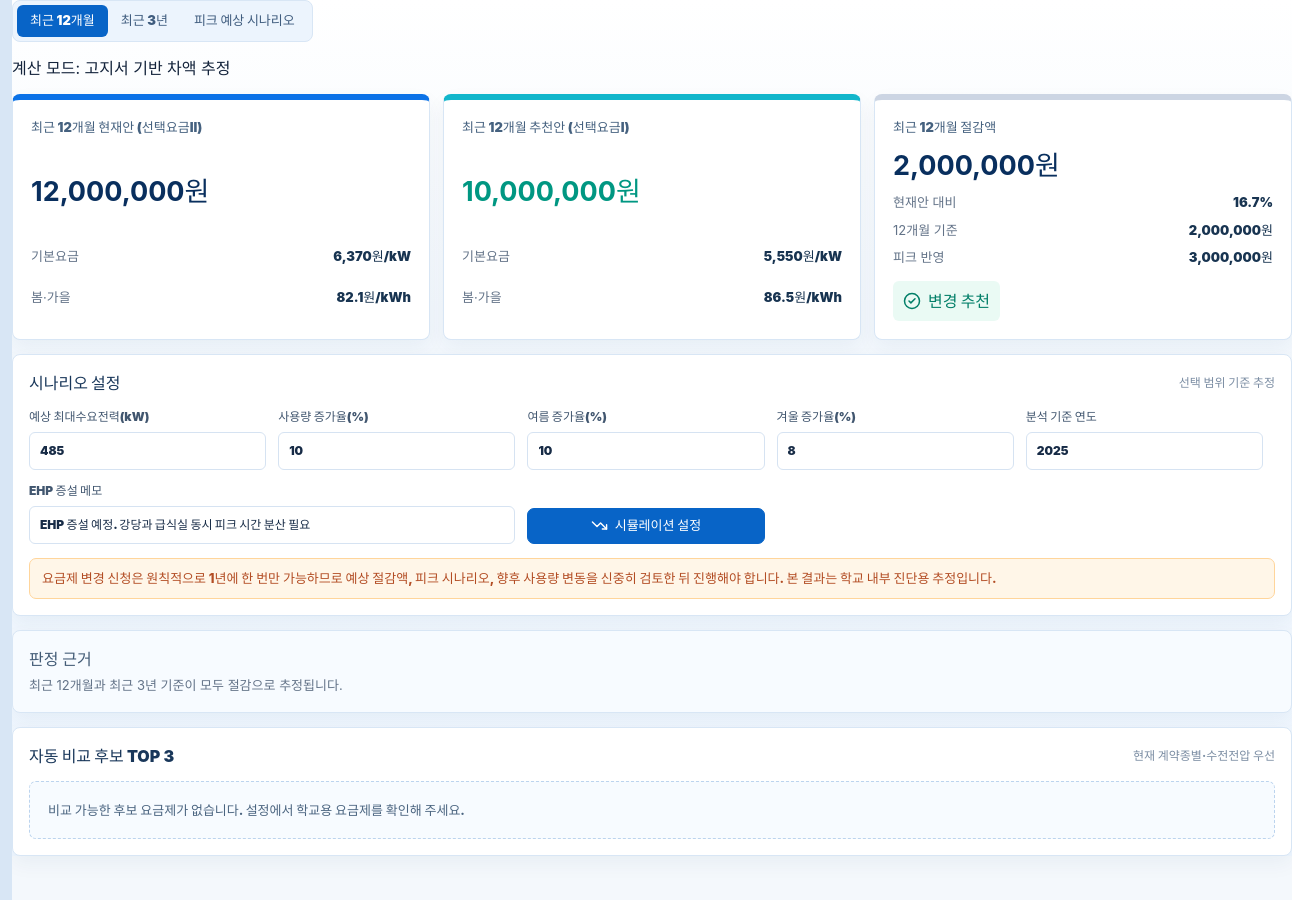
Test: rate simulator usability harness › switches between annual, actual three-year, and peak-scenario totals
This screenshot has width=1292, height=900.
Expected: the text "12,000,000원" is shown, left=31, top=175, right=209, bottom=208
Expected: the text "2,000,000원" is shown 2 times, left=893, top=148, right=1060, bottom=182; left=1189, top=221, right=1273, bottom=240
Click the tab "최근 3년". click: (144, 21)
box: left=108, top=5, right=181, bottom=37
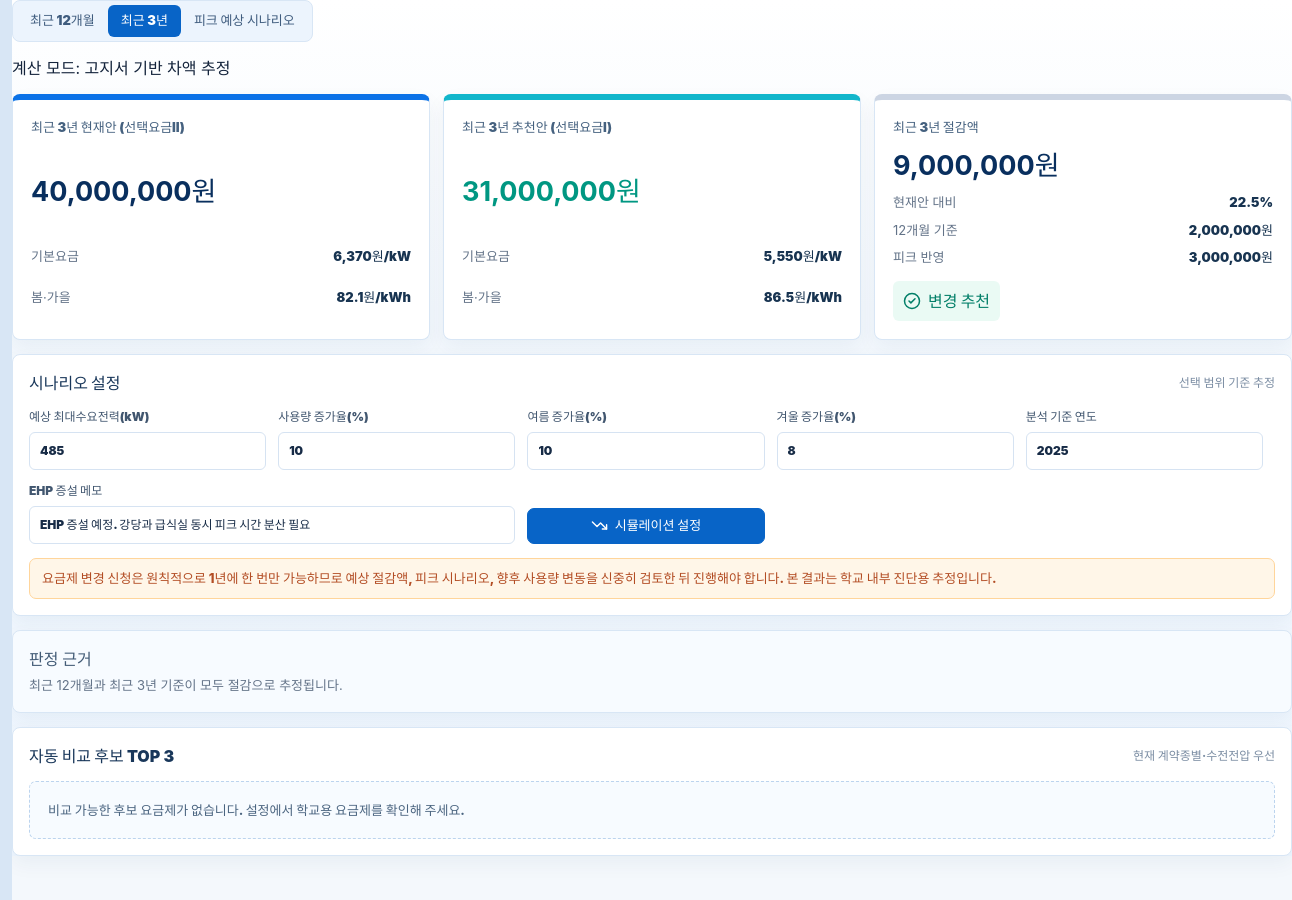
Expected: the text "40,000,000원" is shown, left=31, top=175, right=216, bottom=208
Expected: the text "9,000,000원" is shown, left=893, top=148, right=1060, bottom=182
Click the tab "피크 예상 시나리오". click: (244, 21)
box: left=181, top=5, right=308, bottom=37
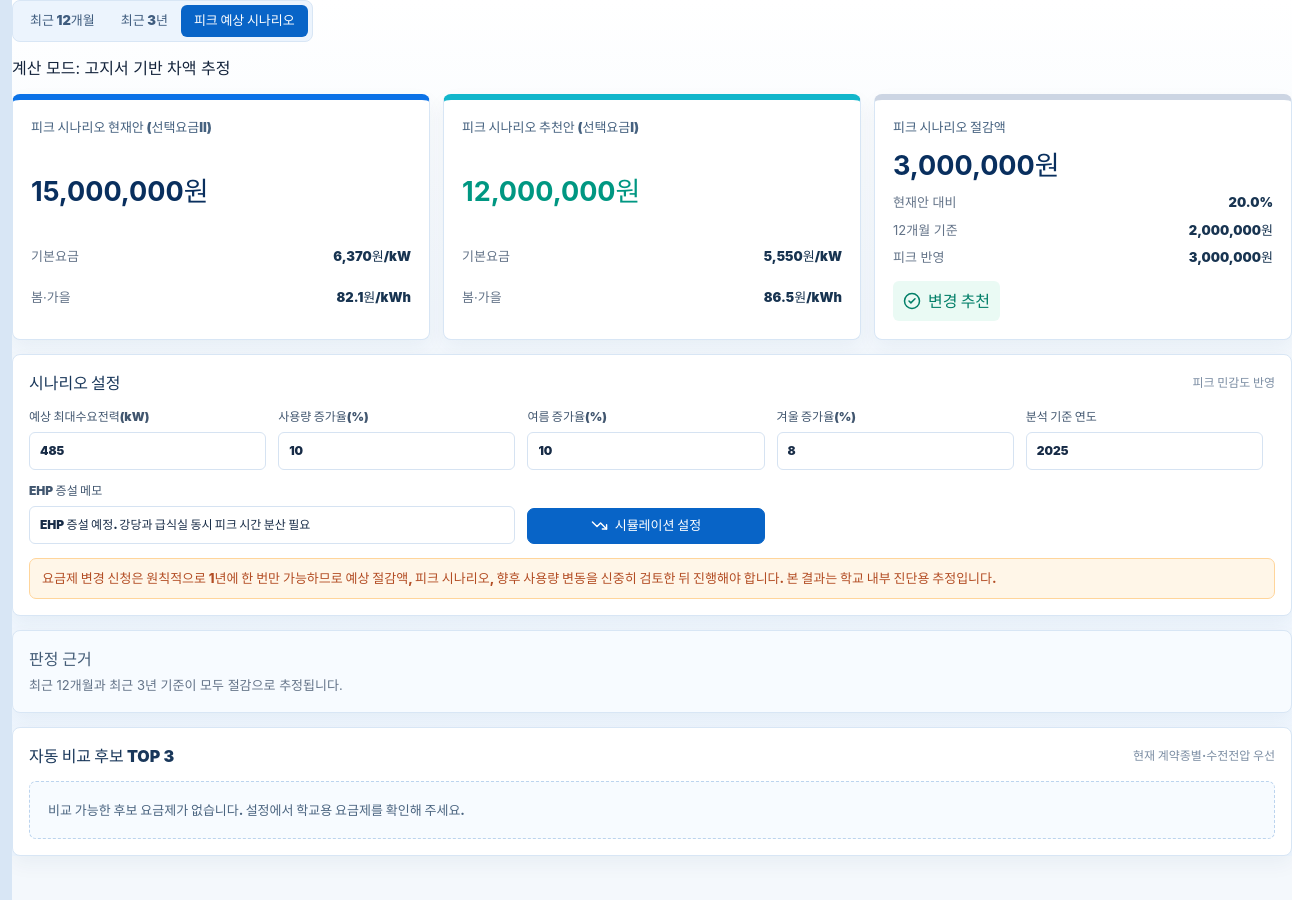
Expected: the text "3,000,000원" is shown 2 times, left=893, top=148, right=1060, bottom=182; left=1189, top=248, right=1273, bottom=268
Expected: the text "15,000,000원" is shown, left=31, top=175, right=209, bottom=208
